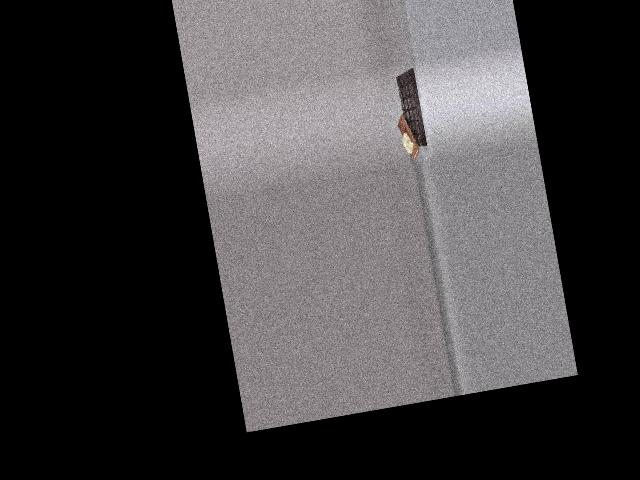chocolate: (392, 67, 430, 154)
